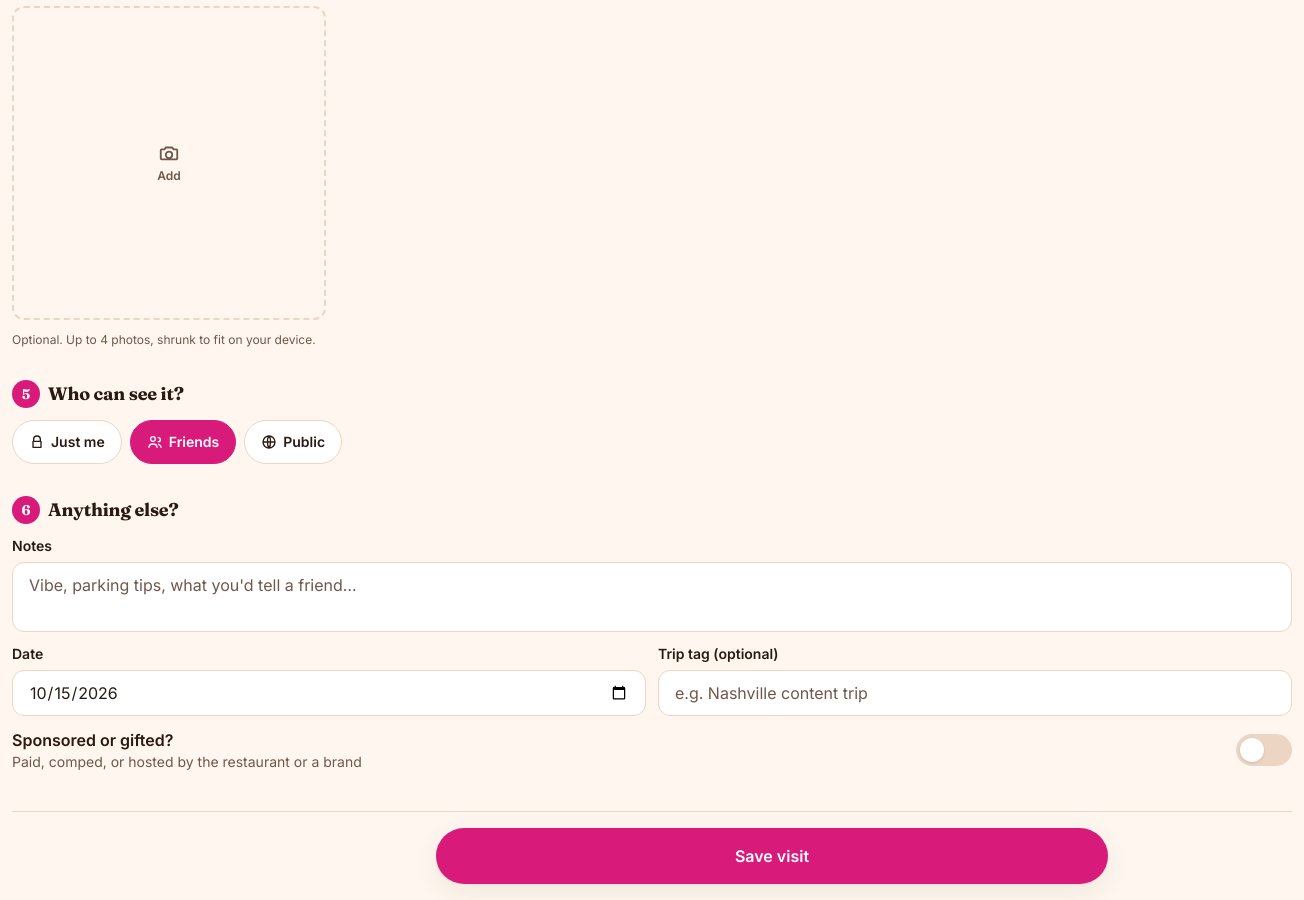
<LogForm /> › asks for the sponsor name and shows the disclosure reminder when sponsored
This screenshot has width=1304, height=900.
(page scrolled)
Click the switch named "sponsored or gifted" at (1264, 750), box [1236,734,1292,766]
(page scrolled)
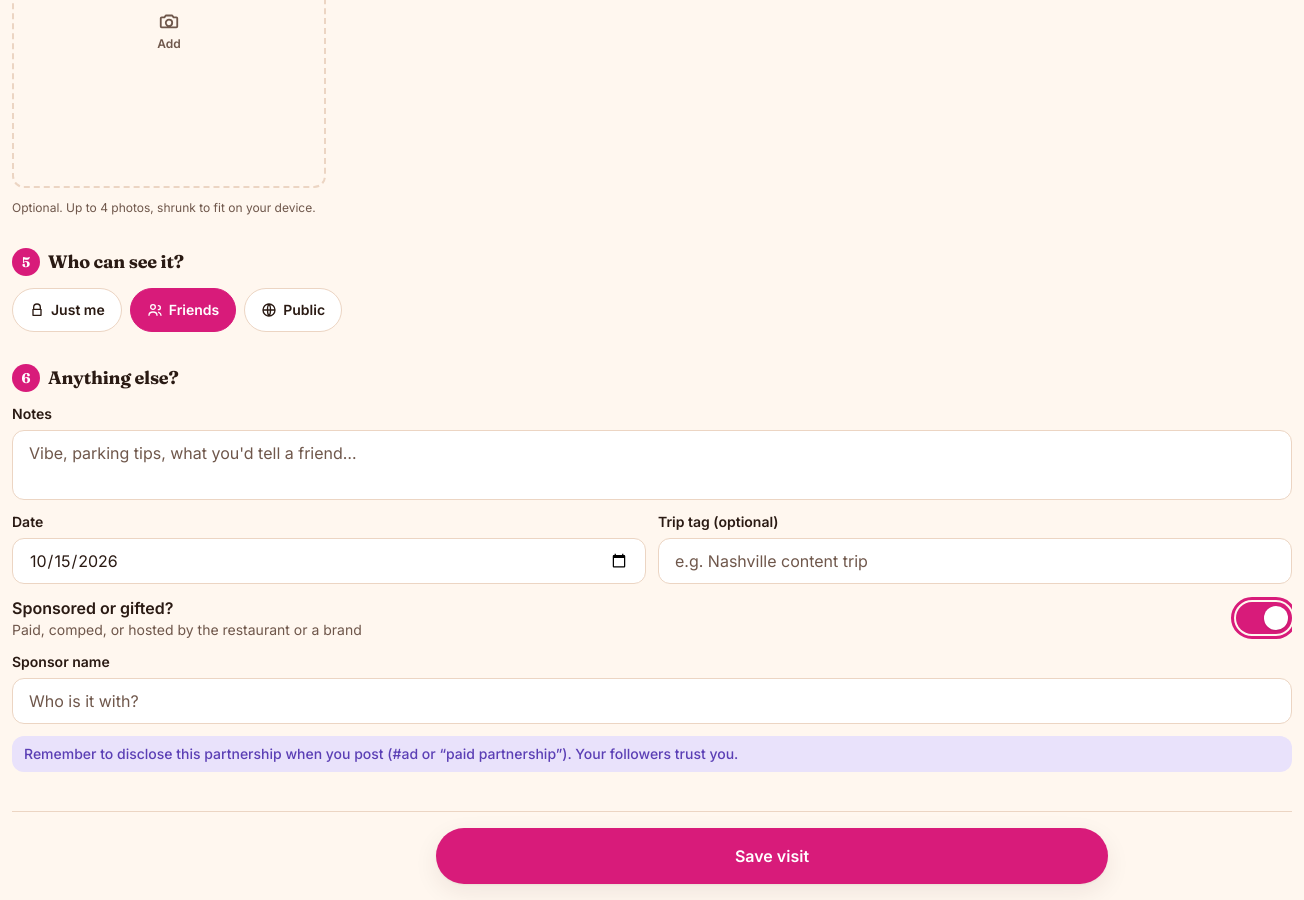
expect the field labelled "Sponsor name" is shown: met, box [12,678,1292,724]
expect the text "disclose" is shown: met, box [24,745,738,762]
